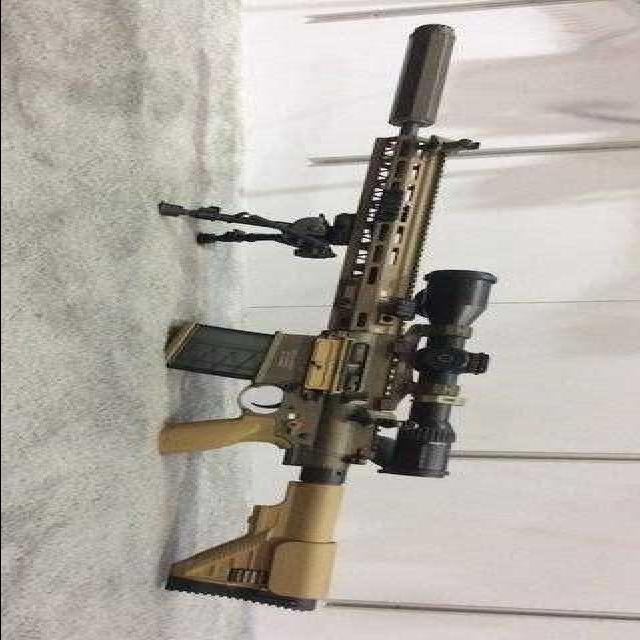heavyweapon: (99, 13, 551, 620)
